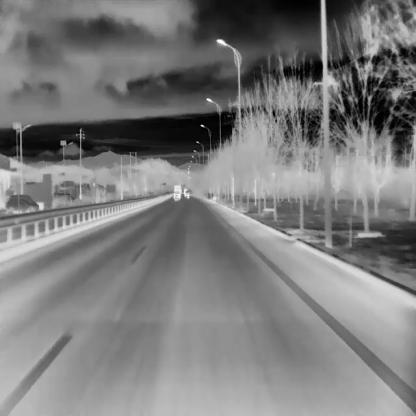car: (4, 197, 38, 213), (174, 189, 180, 199), (184, 190, 189, 198)
truck: (173, 184, 180, 195)
